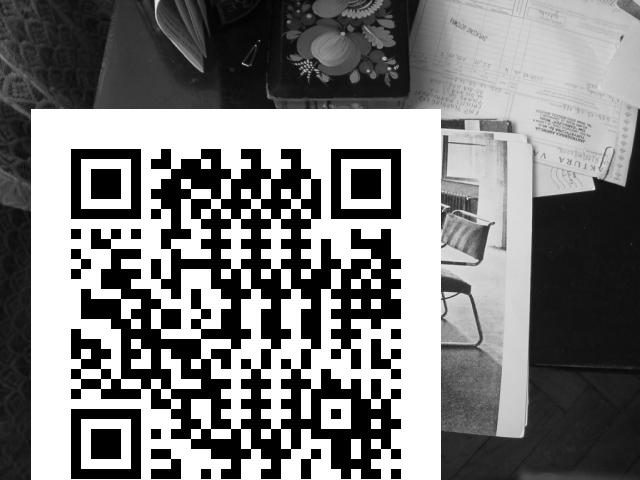qr_code: (32, 109, 441, 480)
